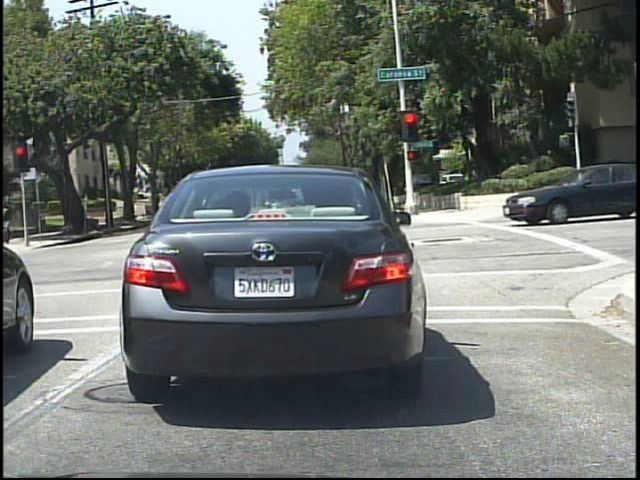person: (3, 194, 17, 246)
